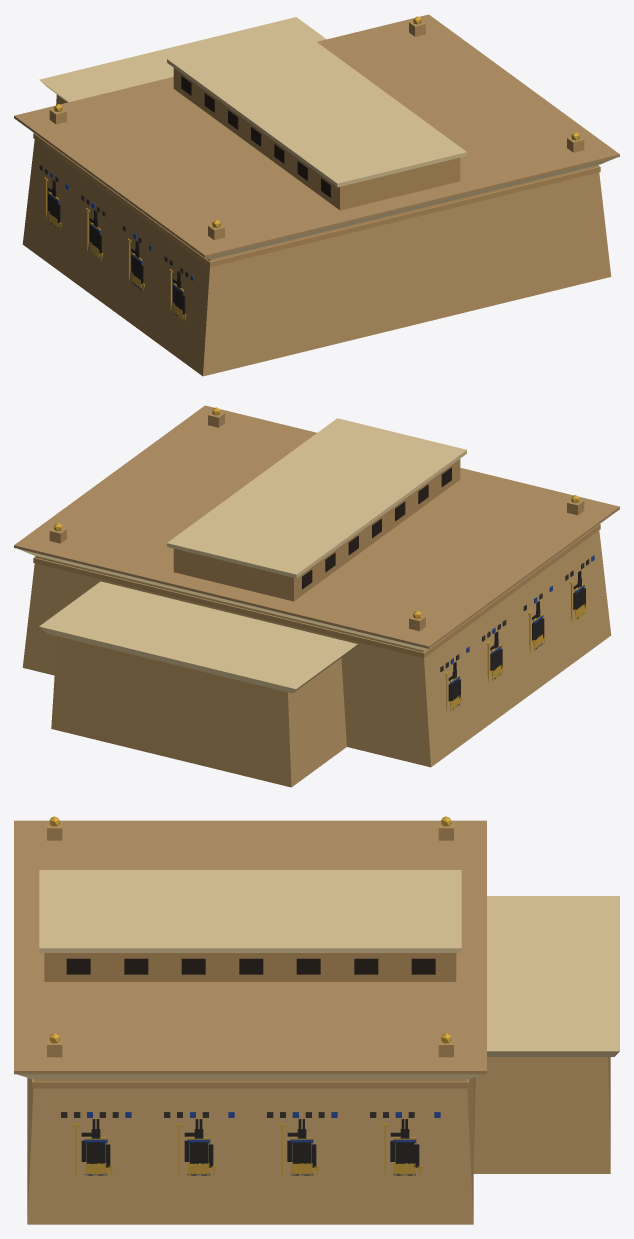
The model's file is desert_temple_hall.glb.
3 views of the same model, one above another, from view 1: azimuth 30°, elevation 25°; view 2: azimuth 150°, elevation 25°; view 3: azimuth 270°, elevation 25° (orthographic). The views are drawn at different scales.
Parts seen in each view (by area): view 1: desert_temple_hall; view 2: desert_temple_hall; view 3: desert_temple_hall.
Boxes of the visible parts, x1,y1,x2,y2 form: desert_temple_hall: [14, 14, 619, 376]; desert_temple_hall: [14, 405, 619, 787]; desert_temple_hall: [14, 816, 619, 1224].
Bounding box in the file's own units: 34.55 × 12.35 × 35.31.
